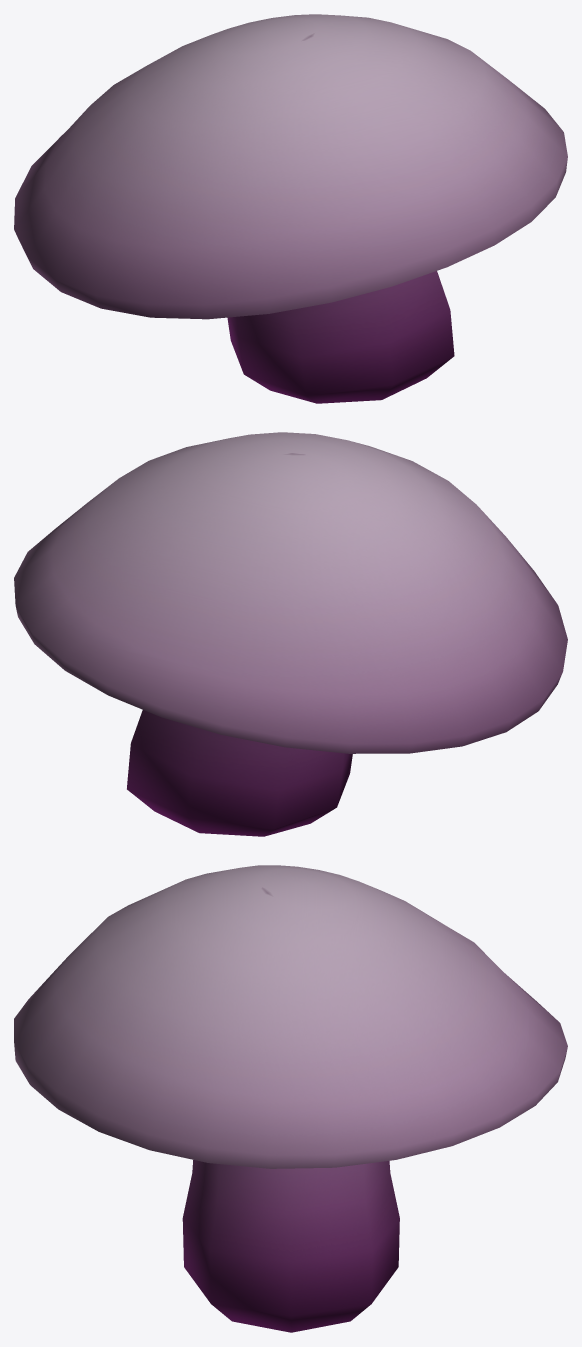
Rendered from SmallMushroom1.FBX.
3 views of the same model, one above another, from view 1: azimuth 30°, elevation 25°; view 2: azimuth 150°, elevation 25°; view 3: azimuth 270°, elevation 25° (orthographic). The views are drawn at different scales.
Visible parts, largest first — view 1: Small Mushroom 1; view 2: Small Mushroom 1; view 3: Small Mushroom 1.
Part boxes in pixels (x1,y1,x2,y2): Small Mushroom 1: [14, 14, 567, 403]; Small Mushroom 1: [14, 432, 567, 836]; Small Mushroom 1: [14, 865, 567, 1332].
Size of the model in its own units: 24.43 by 16.95 by 22.5.
Materials: 1 (1 with a texture image).
